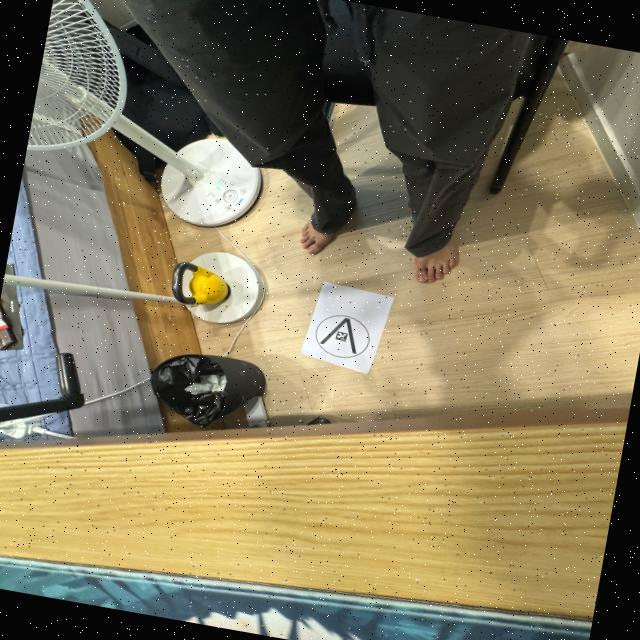ArUro mark: (306, 306, 375, 366)
